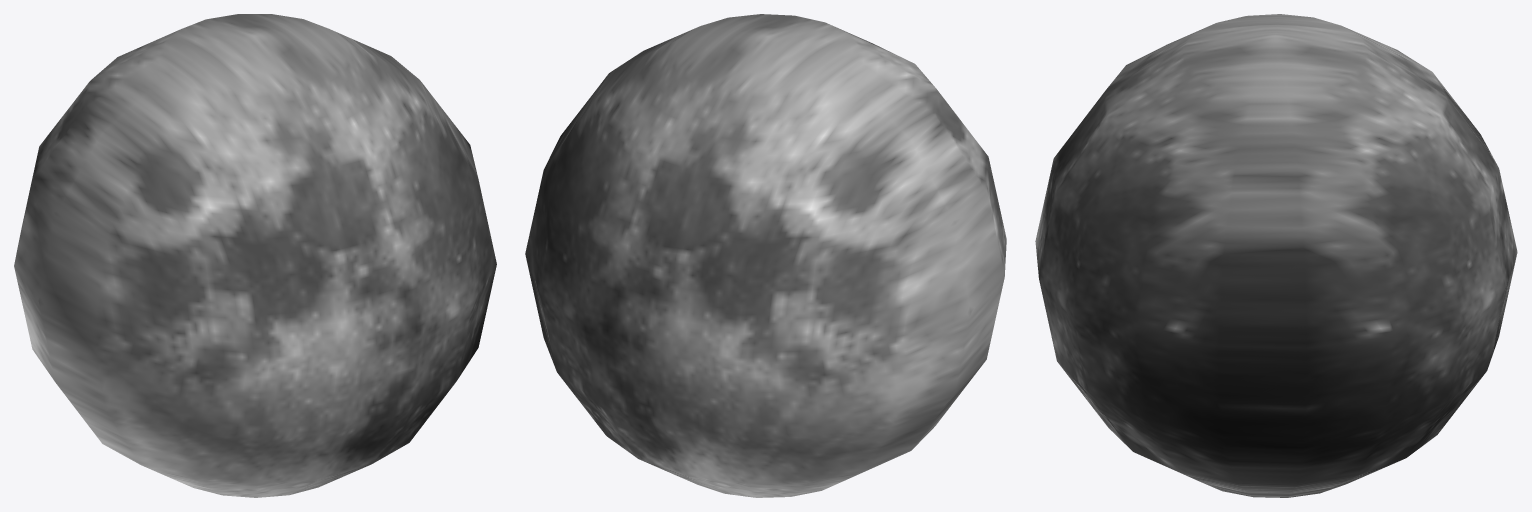
The model's file is Moon.fbx.
The picture shows the model from 3 angles, left to right: view 1: azimuth 30°, elevation 25°; view 2: azimuth 150°, elevation 25°; view 3: azimuth 270°, elevation 25°; orthographic projection.
Visible parts, largest first — view 1: Moon; view 2: Moon; view 3: Moon.
Part boxes in pixels (x1,y1,x2,y2): Moon: [14, 14, 496, 497]; Moon: [525, 14, 1006, 497]; Moon: [1035, 14, 1517, 497].
Size of the model in its own units: 35058 by 35235 by 35035.
1 material, 1 textured.
